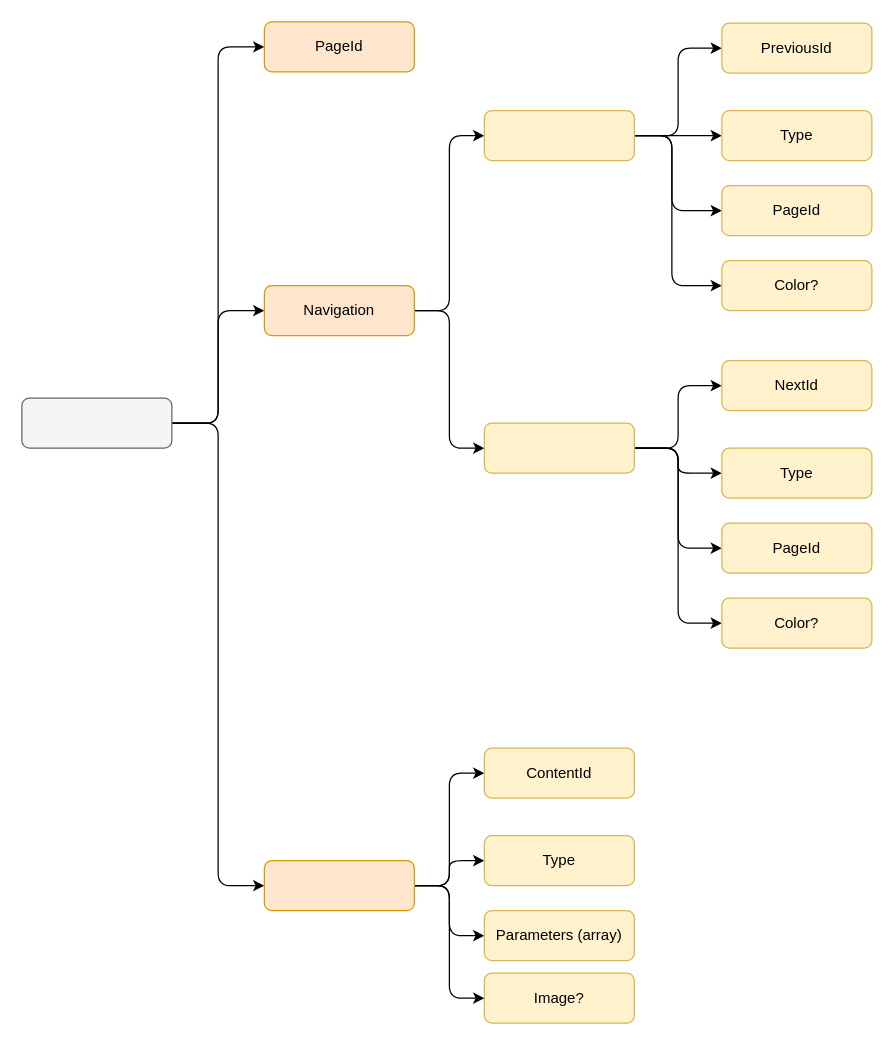
Image size: 894x1045. Some labels were removed from this diagram. Here are the shapes that lost their labels. From the top down, the box of each, then its label:
(483, 109, 634, 161): Previous?
(21, 397, 172, 448): Page
(483, 422, 634, 473): Next?
(263, 859, 414, 911): Content (array)
